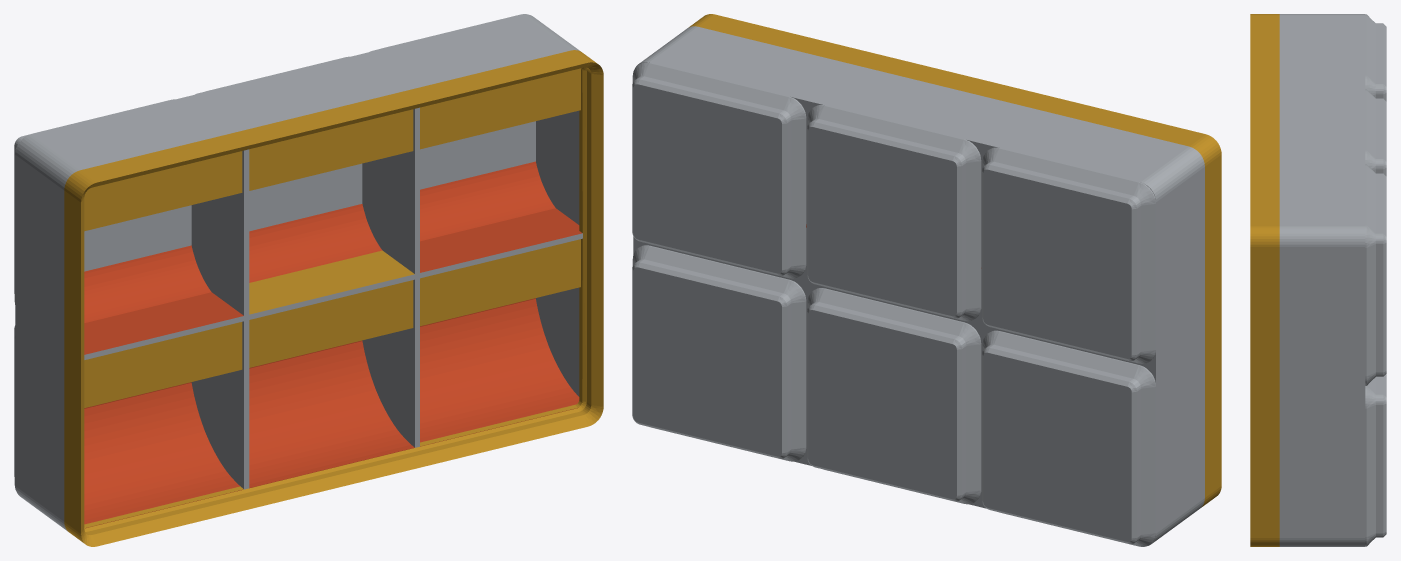
The model's file is hero-multicolor-organizer.glb.
3 views of the same model, side by side, from view 1: azimuth 30°, elevation 25°; view 2: azimuth 150°, elevation 25°; view 3: azimuth 270°, elevation 25° (orthographic). The views are drawn at different scales.
Size of the model in its own units: 126 by 83.5 by 32.31.
